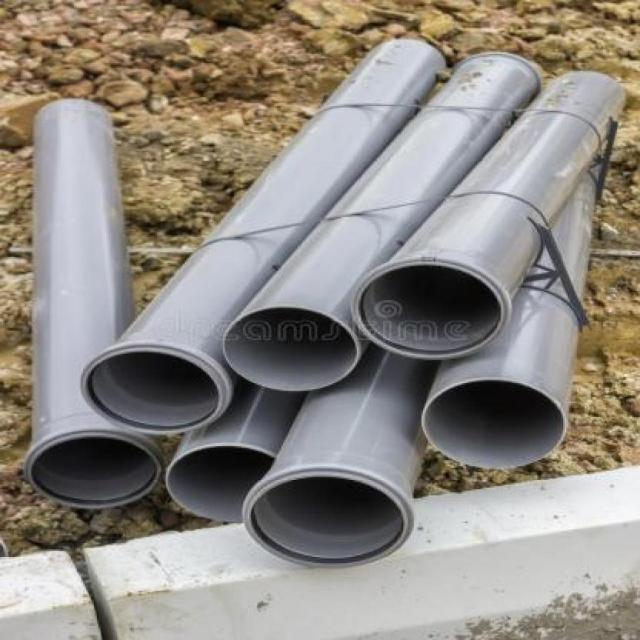pipe: (245, 469, 413, 568), (352, 257, 508, 359), (420, 377, 567, 470), (80, 343, 229, 434), (224, 305, 363, 392), (25, 430, 164, 507), (167, 443, 278, 524)
